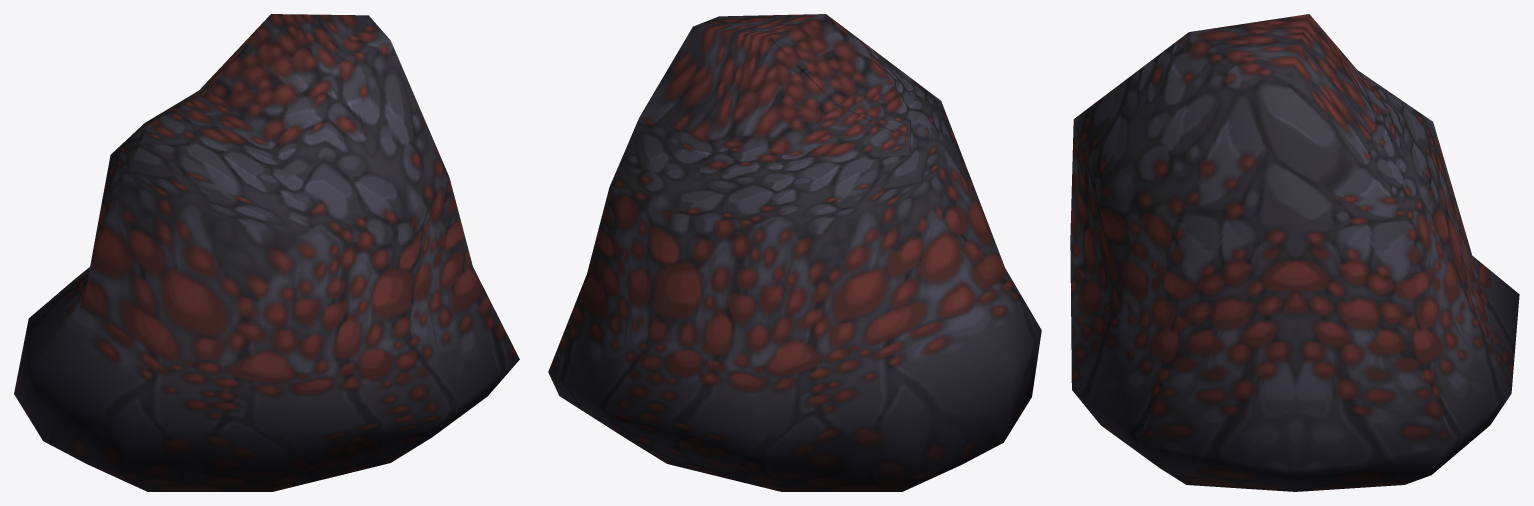
The model's file is Rock_03d.FBX.
3 views of the same model, side by side, from view 1: azimuth 30°, elevation 25°; view 2: azimuth 150°, elevation 25°; view 3: azimuth 270°, elevation 25° (orthographic). The views are drawn at different scales.
Parts seen in each view (by area): view 1: Rock_03d; view 2: Rock_03d; view 3: Rock_03d.
Part boxes in pixels (x1,y1,x2,y2): Rock_03d: (14, 14, 519, 491); Rock_03d: (548, 14, 1041, 491); Rock_03d: (1070, 14, 1519, 491).
Size of the model in its own units: 52.9 by 45.06 by 44.19.
